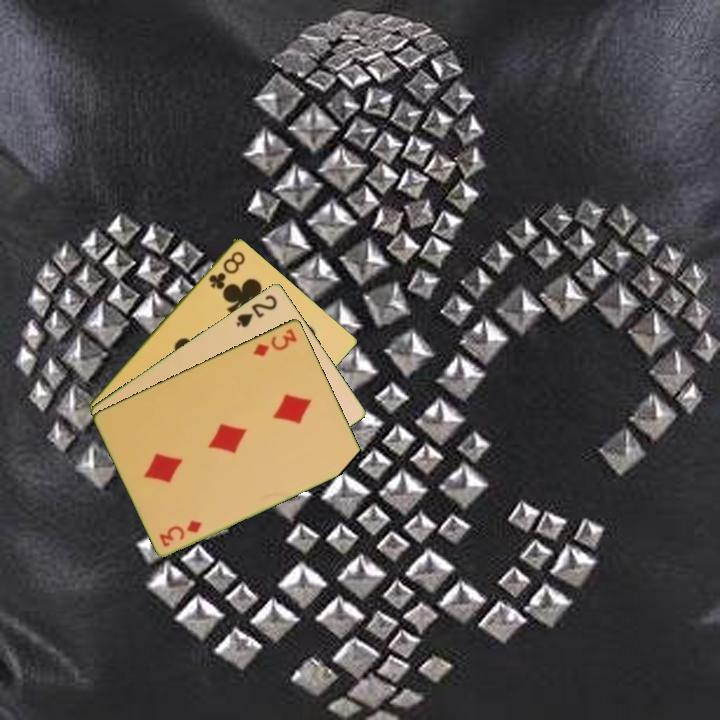2s: (232, 291, 280, 330)
3d: (250, 325, 300, 359), (156, 516, 205, 549)
8c: (205, 247, 248, 292)
